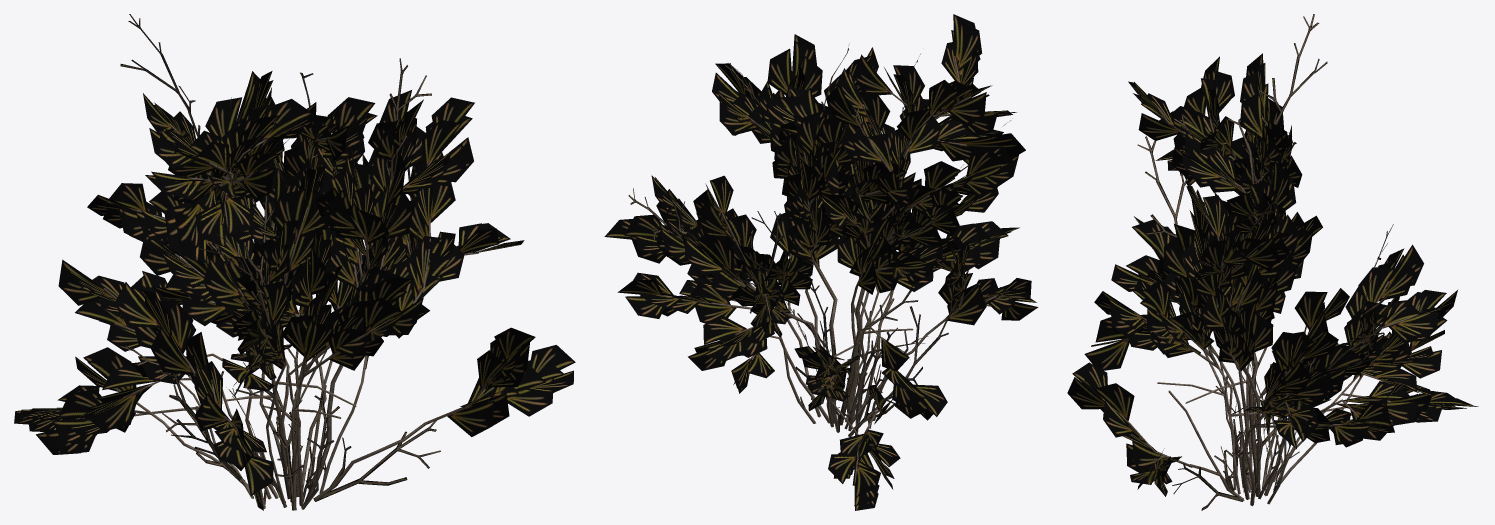
File: kuru_cali_b.gltf
3 renders of one model, left to right at view 1: azimuth 30°, elevation 25°; view 2: azimuth 150°, elevation 25°; view 3: azimuth 270°, elevation 25°, orthographic. The views are drawn at different scales.
Parts seen in each view (by area): view 1: kuru_cali_b; view 2: kuru_cali_b; view 3: kuru_cali_b.
Boxes of the visible parts, bbox=[...] form: kuru_cali_b: bbox=[14, 14, 575, 510]; kuru_cali_b: bbox=[604, 14, 1038, 510]; kuru_cali_b: bbox=[1067, 14, 1478, 510].
Size of the model in its own units: 0.5243 by 0.5413 by 0.4747.
Materials: 3 (3 with a texture image).
